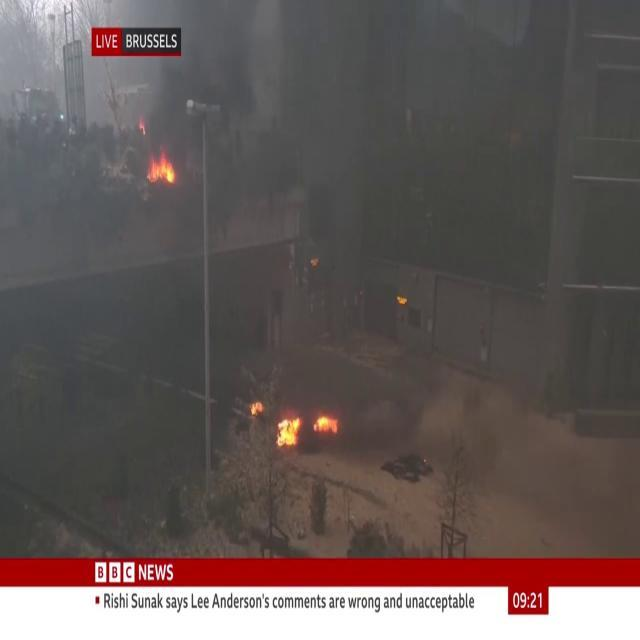Fire: (276, 397, 340, 448), (147, 147, 177, 188)
